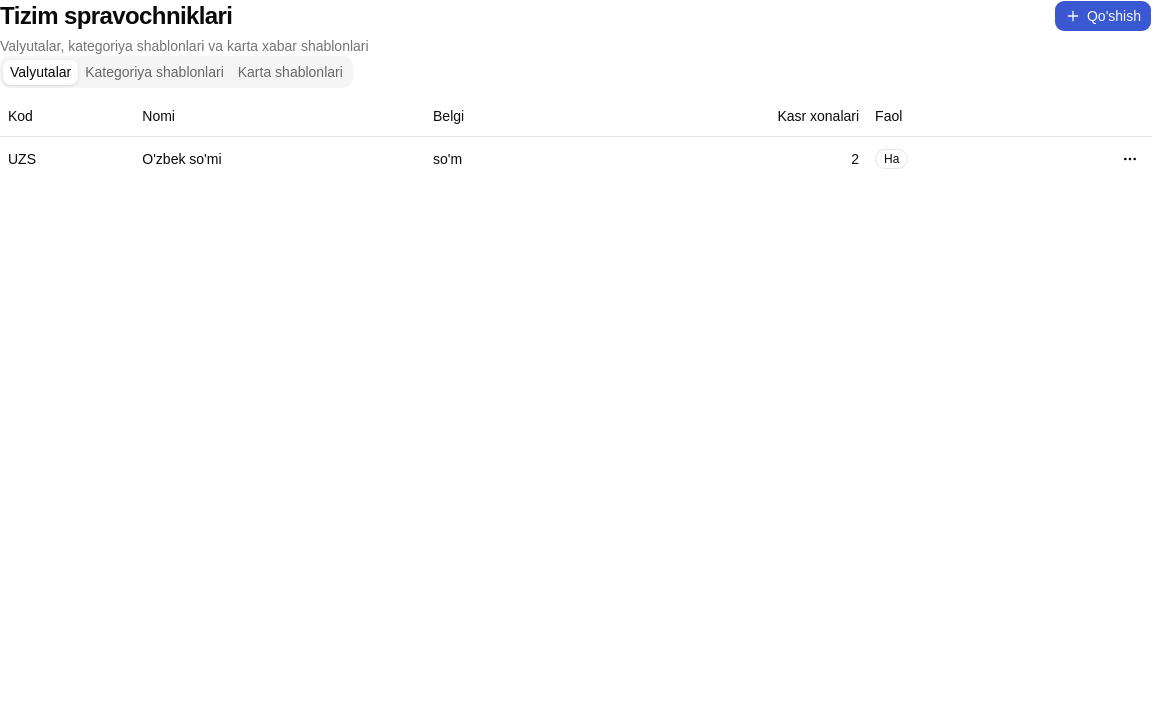
Test: PlatformDirectoriesPage (E26-T01) › karta naqshi namunaga darhol qo‘llanadi
The width and height of the screenshot is (1152, 712).
Expected: the table named "Valyutalar" is shown, [0,96,1151,180]
Click the tab "Karta shablonlari": point(290, 72) [231,60,350,84]
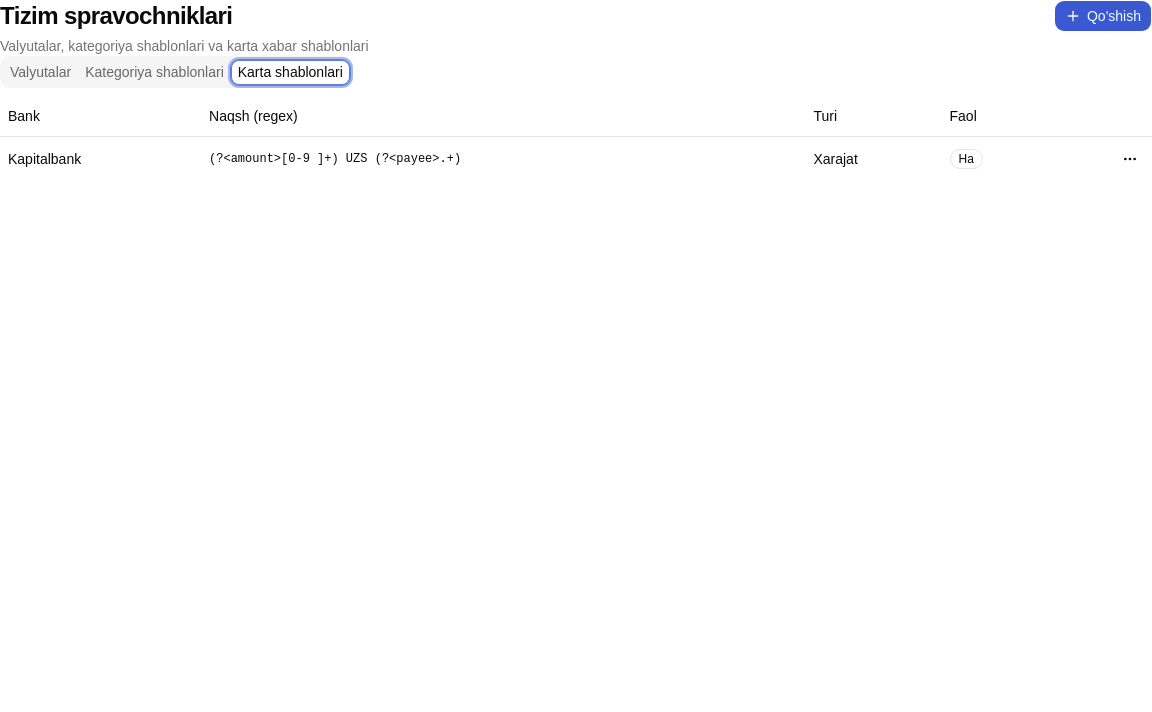
Result: the table named "Karta shablonlari" is shown at [0,96,1151,180]
Click the button named "Kapitalbank": point(1130, 158) [1116,144,1144,172]
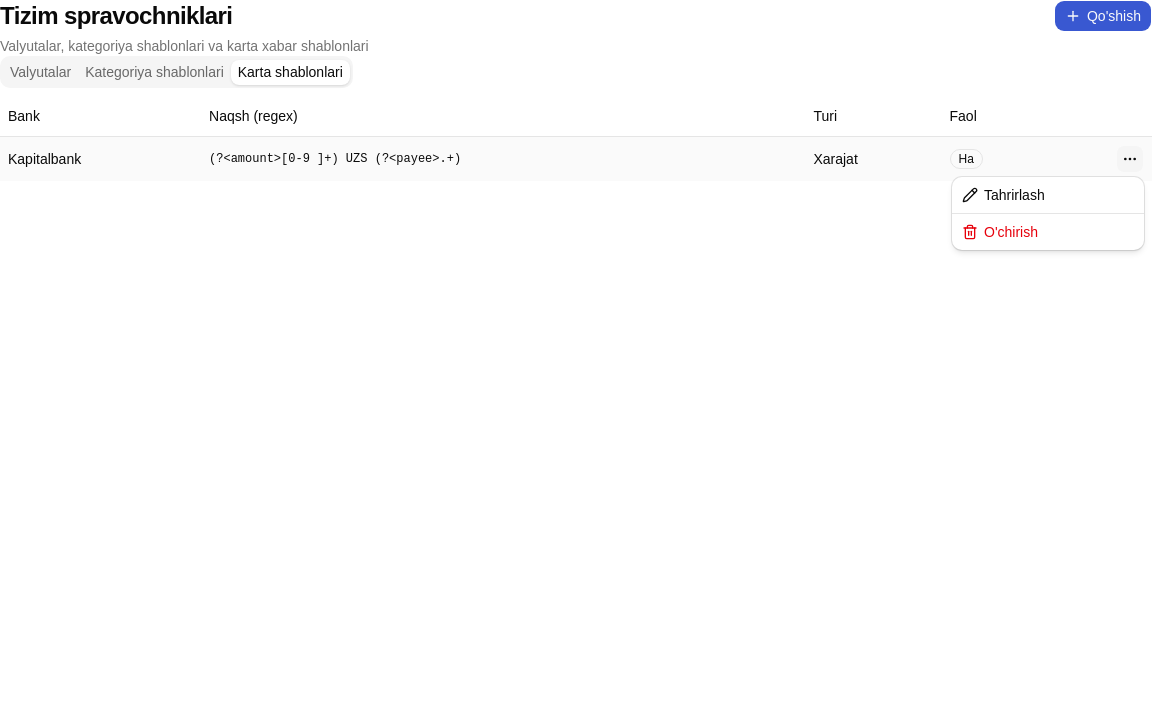
Click the menu item "Tahrirlash": point(1003, 195) [962,187,1045,203]
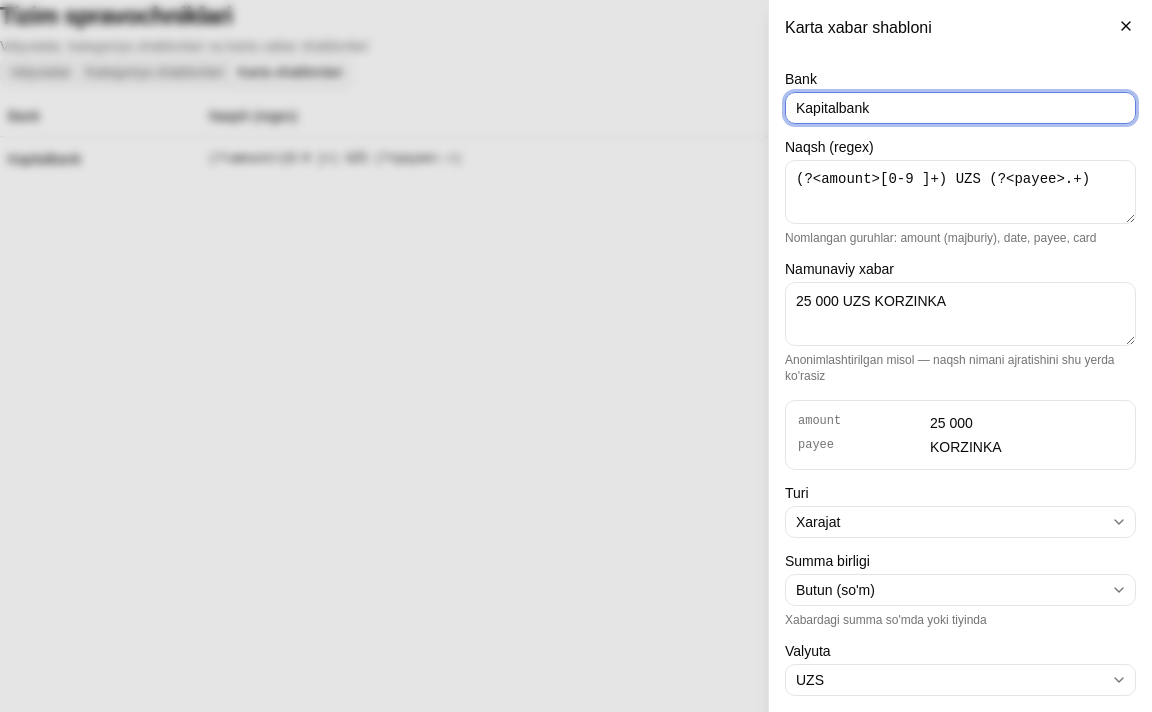
Result: the text "amount" is shown at [798,414,841,428]
Result: the text "25 000" is shown at [930,415,973,431]
Result: the text "KORZINKA" is shown at [930,439,1002,455]
